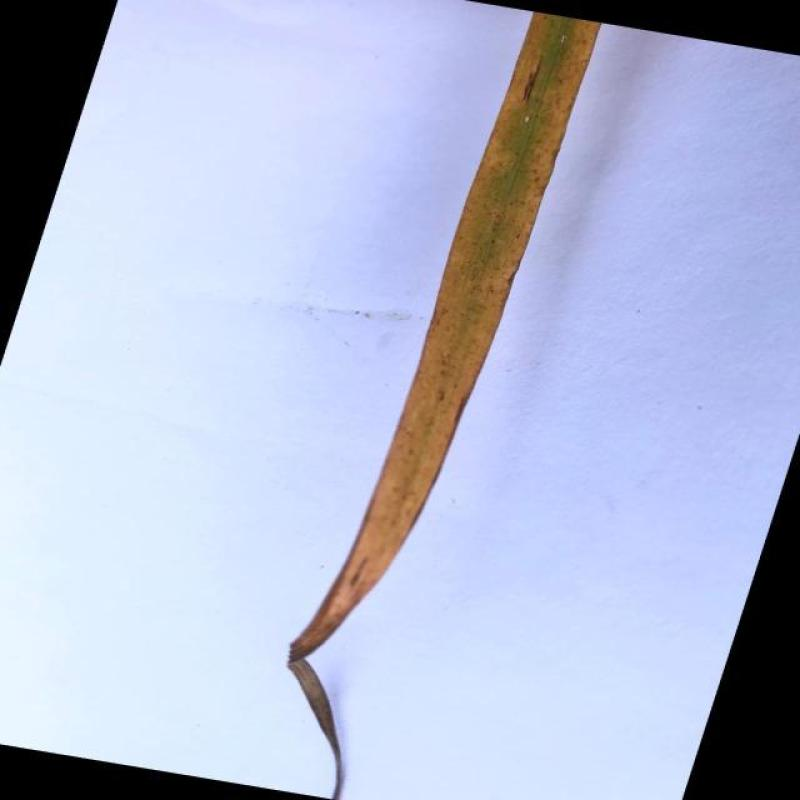Rice Tungro: (302, 0, 606, 641)
